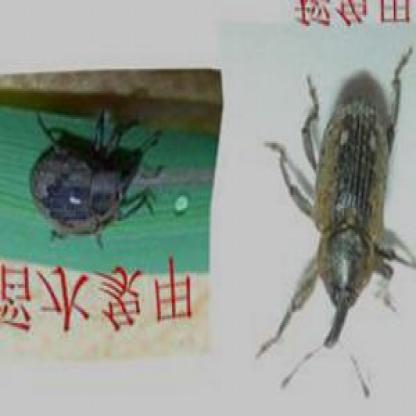rice-bug: (270, 72, 409, 370), (30, 111, 160, 244)
